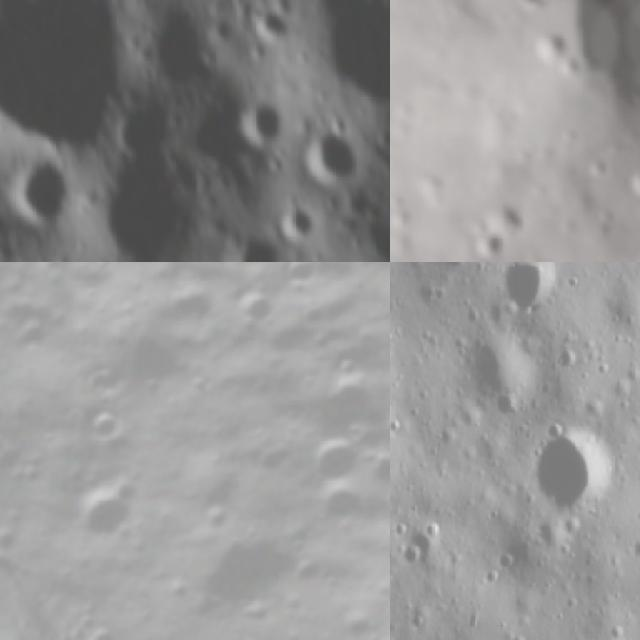crater: (0, 0, 150, 142), (305, 0, 390, 125), (530, 428, 624, 530), (106, 100, 204, 177), (454, 326, 536, 413), (71, 470, 151, 552), (146, 5, 226, 85), (6, 154, 84, 228), (295, 120, 377, 186), (306, 425, 377, 494), (493, 262, 548, 319), (236, 92, 294, 146), (78, 402, 133, 456), (231, 224, 291, 262), (0, 534, 42, 587), (279, 188, 317, 240), (528, 32, 569, 68), (412, 178, 445, 210), (469, 240, 506, 262), (597, 207, 617, 235), (390, 201, 409, 230), (585, 162, 609, 182), (468, 218, 488, 240), (627, 166, 640, 198)
